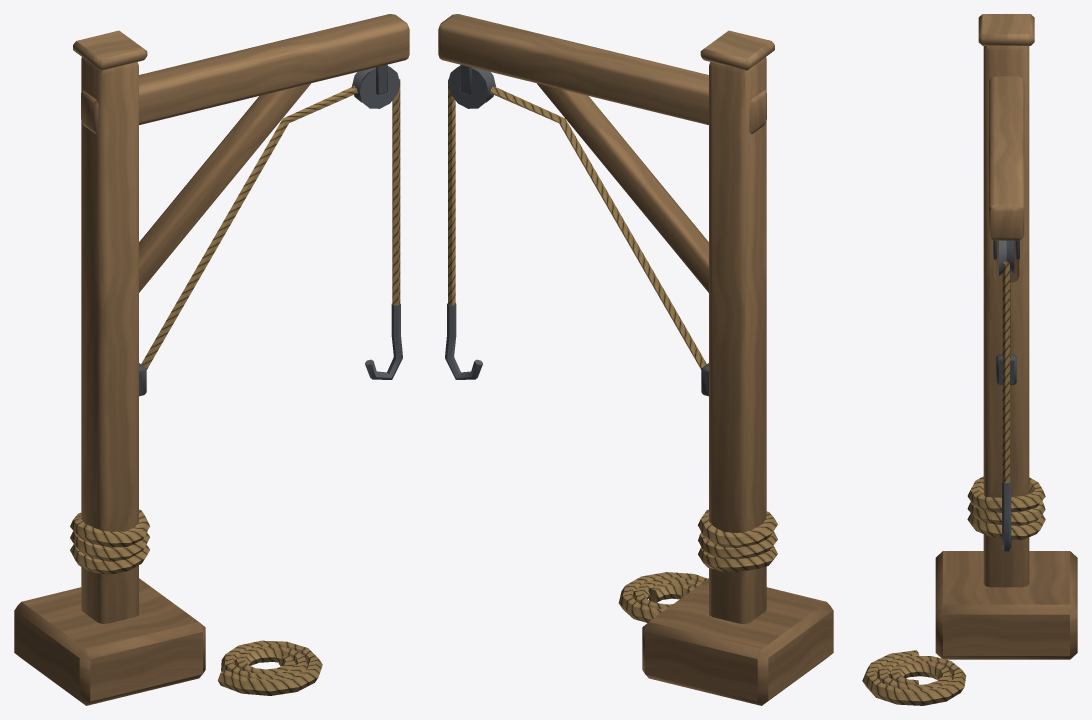
Rendered from dock-hoist.glb.
3 renders of one model, left to right at view 1: azimuth 30°, elevation 25°; view 2: azimuth 150°, elevation 25°; view 3: azimuth 270°, elevation 25°, orthographic. The views are drawn at different scales.
Parts seen in each view (by area): view 1: dock-hoist; view 2: dock-hoist; view 3: dock-hoist.
Boxes of the visible parts, x1,y1,x2,y2 form: dock-hoist: [14, 14, 409, 705]; dock-hoist: [438, 14, 833, 705]; dock-hoist: [862, 14, 1077, 705].
Size of the model in its own units: 1.58 by 2.64 by 0.8484.
3 materials, 2 textured.
